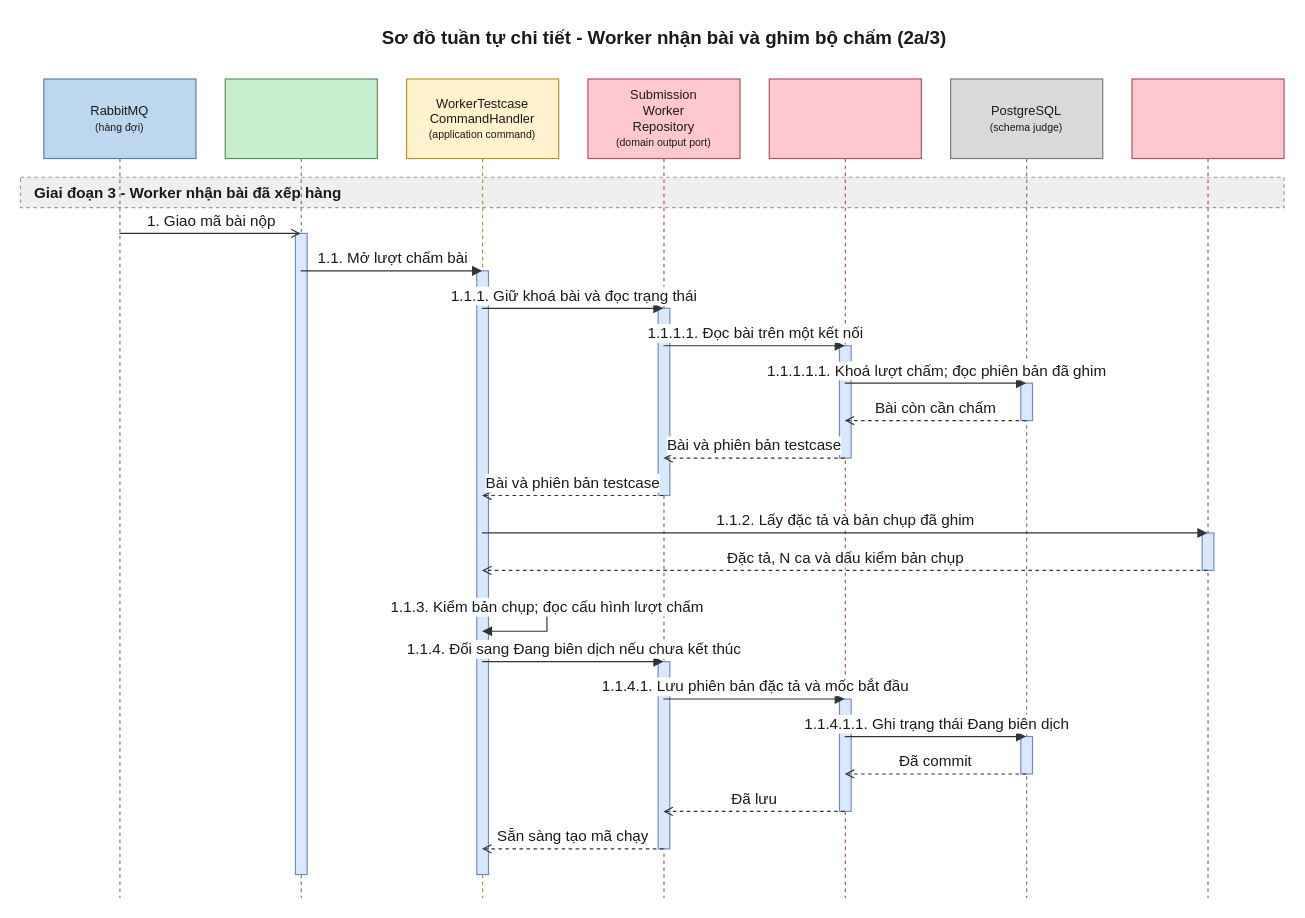
This 1305x918 diagram has some shape labels left out. Here are the shapes that lost their labels. From the top down, the box of each, then its label:
(224, 78, 377, 898): JudgeConsumer (infrastructure consumer)
(768, 78, 921, 898): JdbcSubmission Worker Repository (infrastructure)
(1131, 78, 1284, 898): GradingSpecPort (port F4 → F2)
